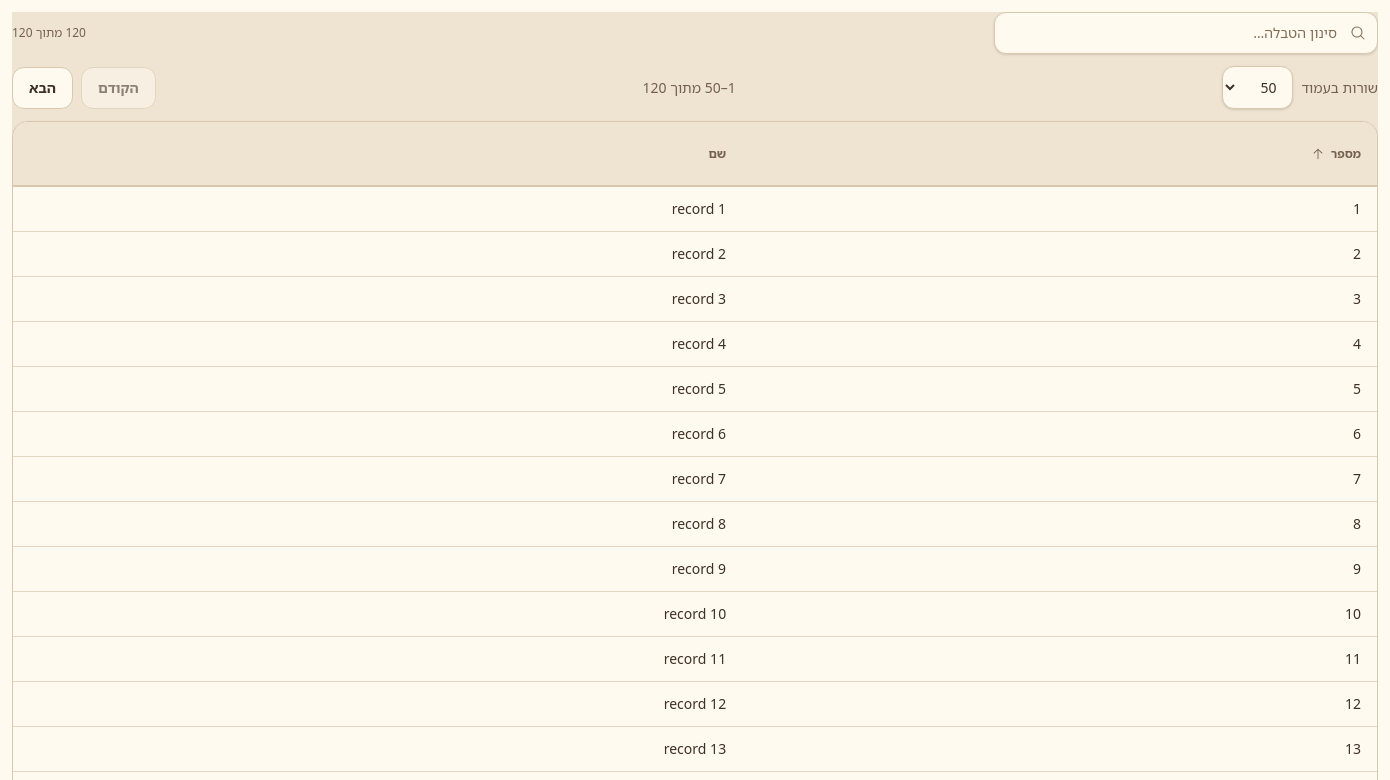
Test: DataTable pagination › offers 25/50/100 sizes and resets size changes to page one
This screenshot has width=1390, height=780.
Click the button with aria-label "העמוד הבא" at point(42, 88), box [12, 66, 73, 108]
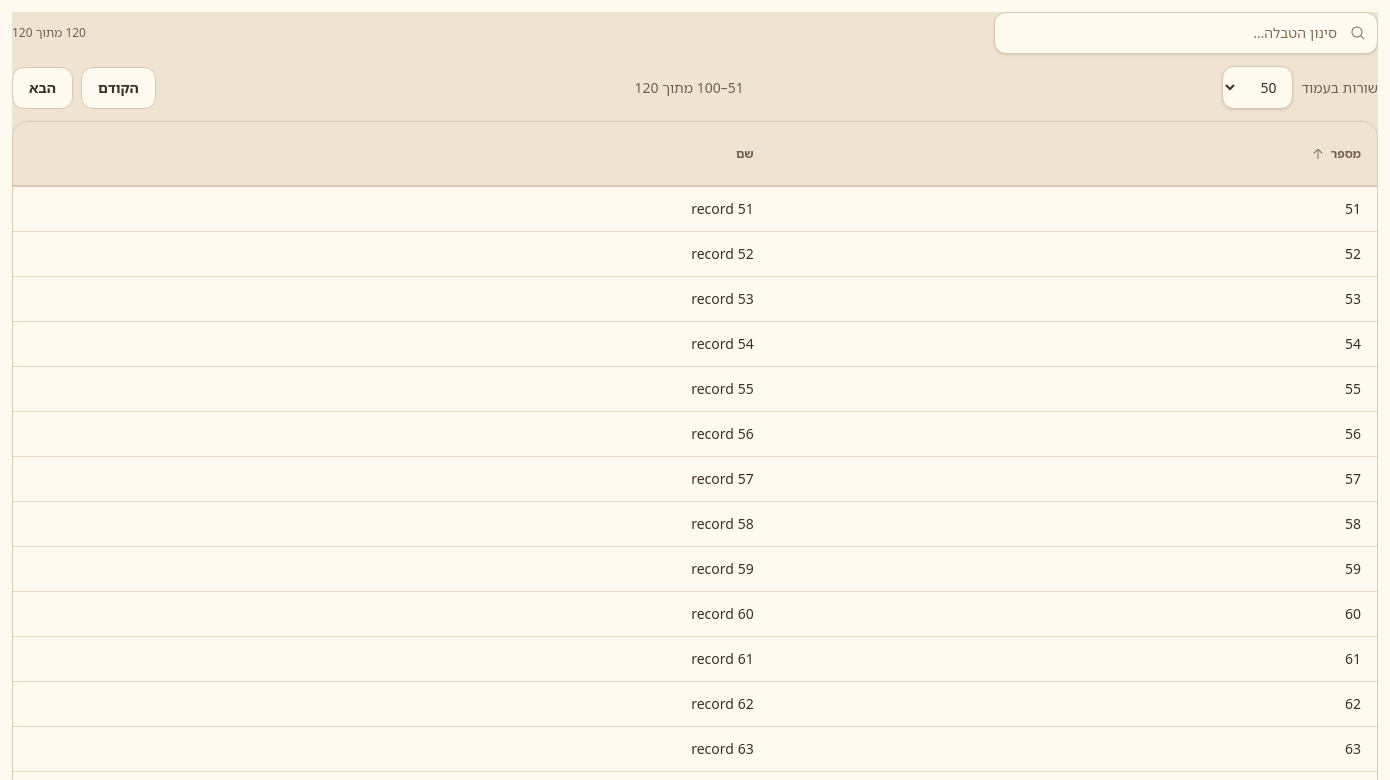
Select "25" in the dropdown labelled "שורות בעמוד" at point(1258, 88), box [1222, 66, 1294, 109]
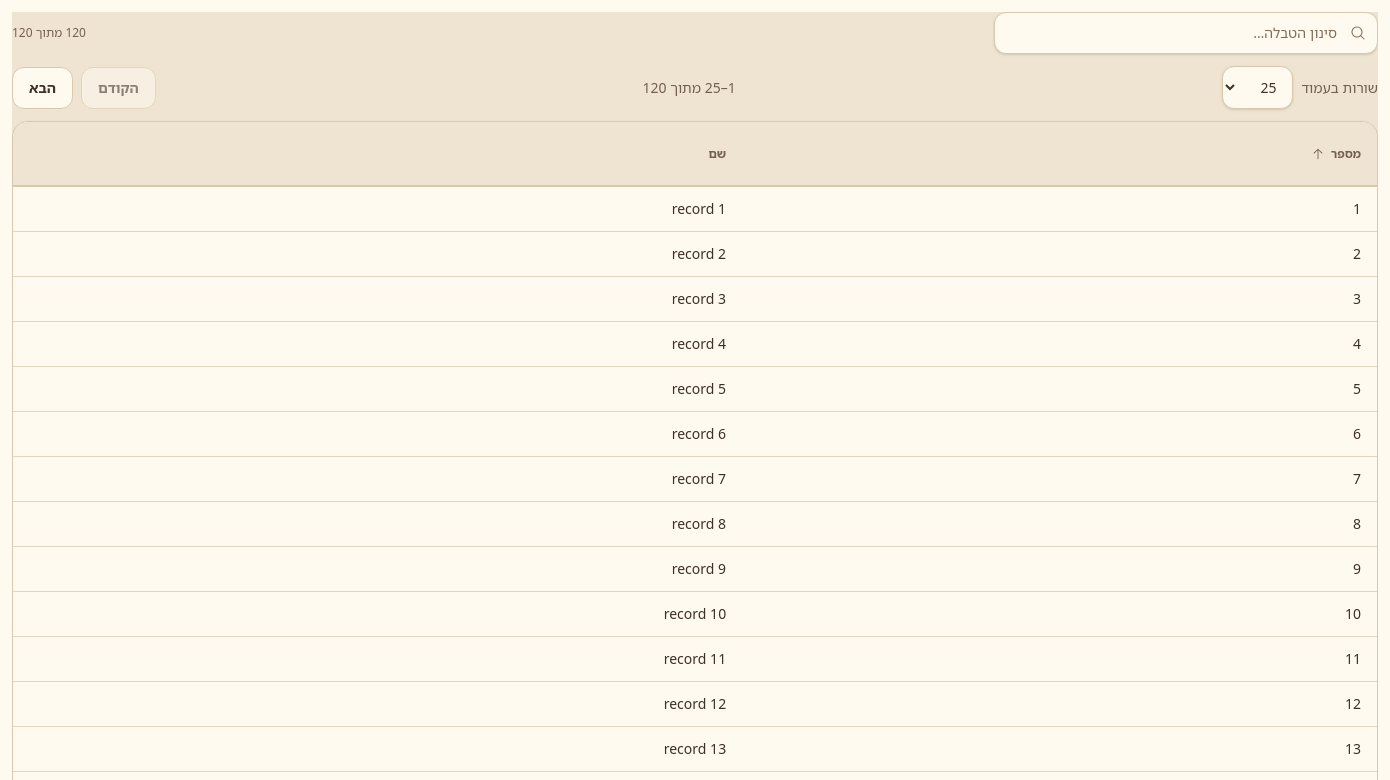
expect the text "1–25 מתוך 120" is shown: met, box [642, 78, 736, 98]
Click the button with aria-label "העמוד הבא" at point(42, 88), box [12, 66, 73, 108]
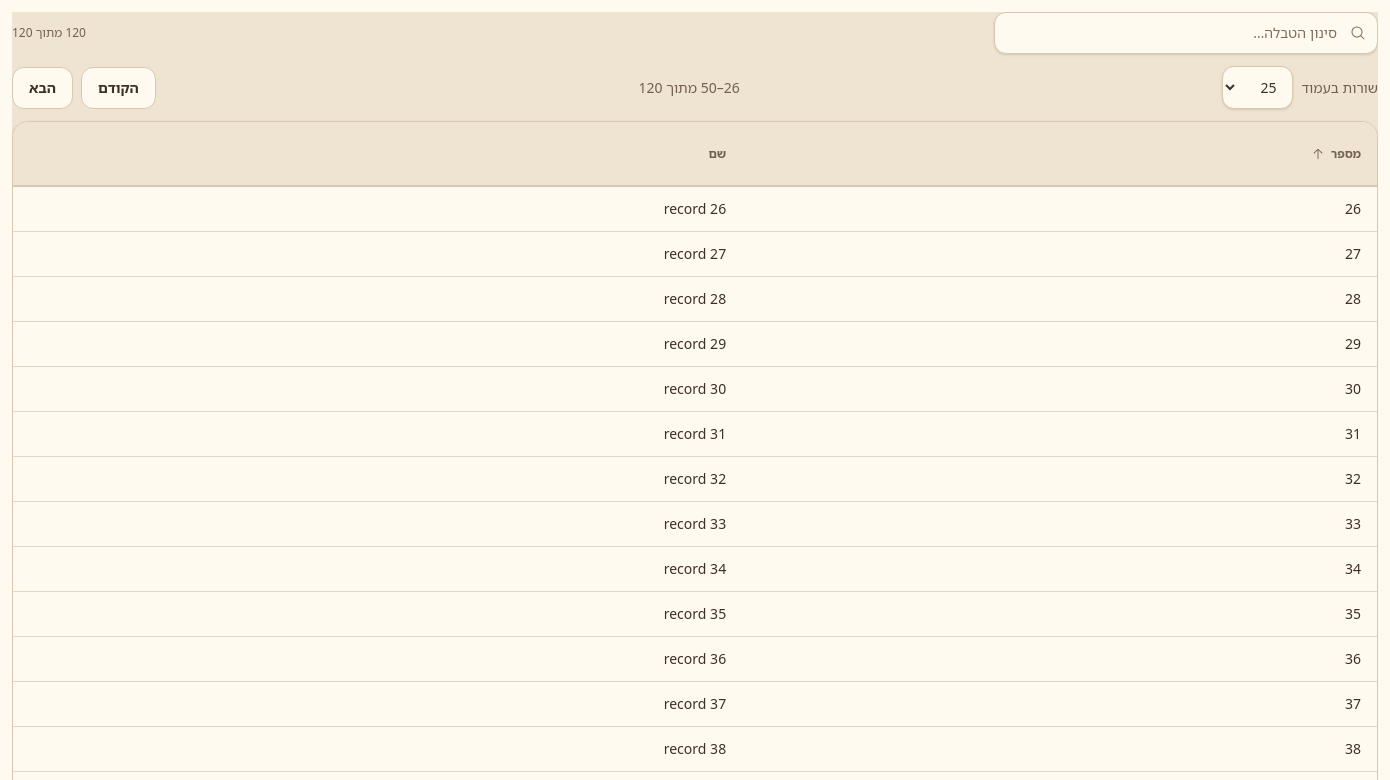
Select "100" in the dropdown labelled "שורות בעמוד" at point(1258, 88), box [1222, 66, 1294, 109]
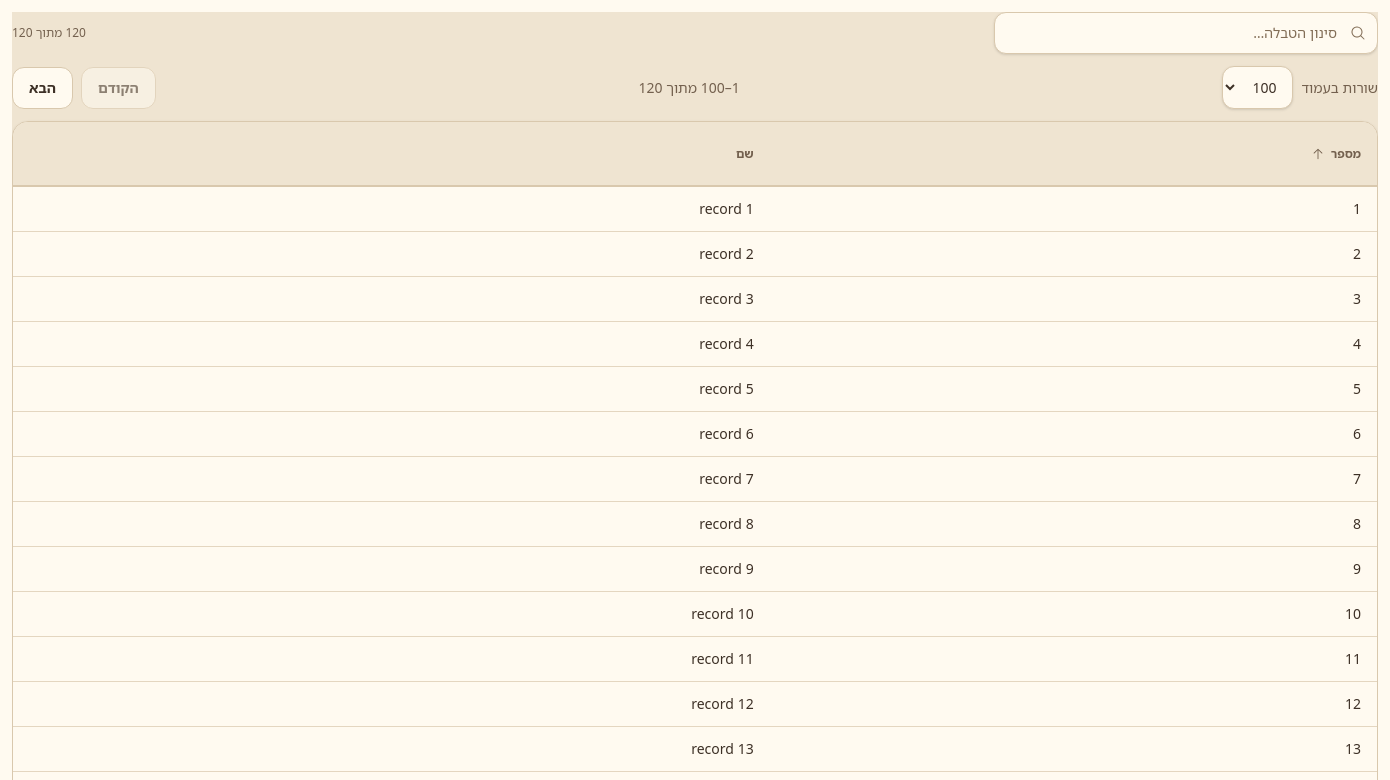
expect the text "1–100 מתוך 120" is shown: met, box [638, 78, 740, 98]
